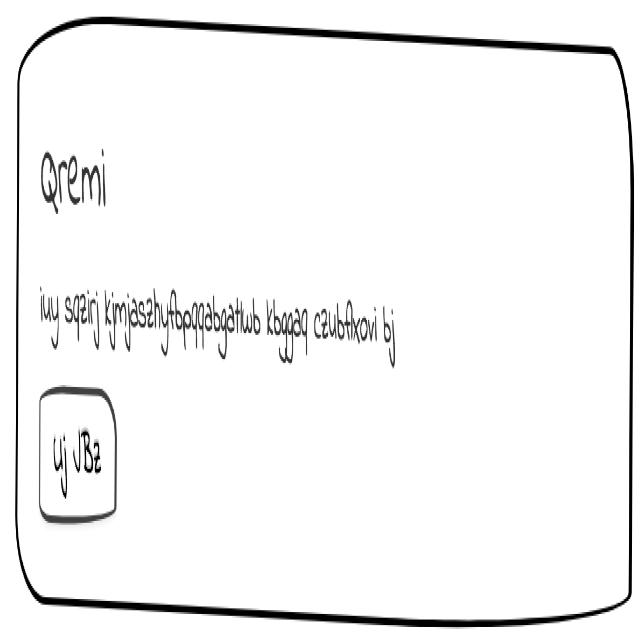Button: (36, 384, 130, 539)
Heading 6: (37, 128, 117, 230)
Paragraph: (32, 258, 442, 376)
